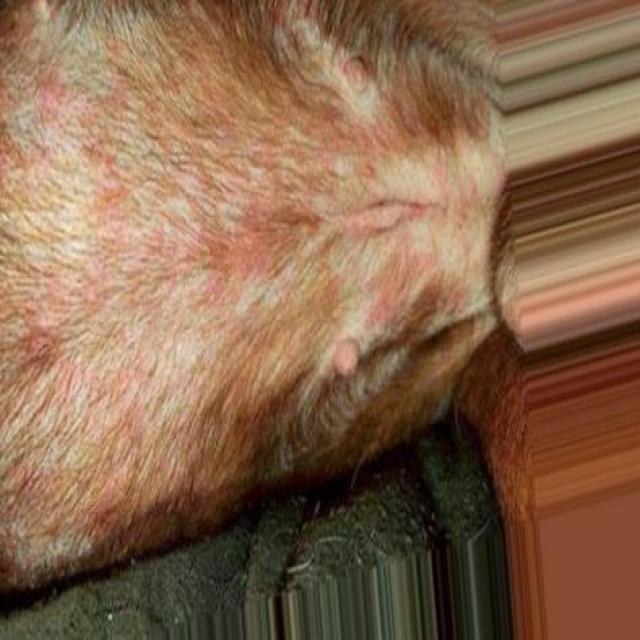di ung bo chet: (0, 0, 435, 456)
